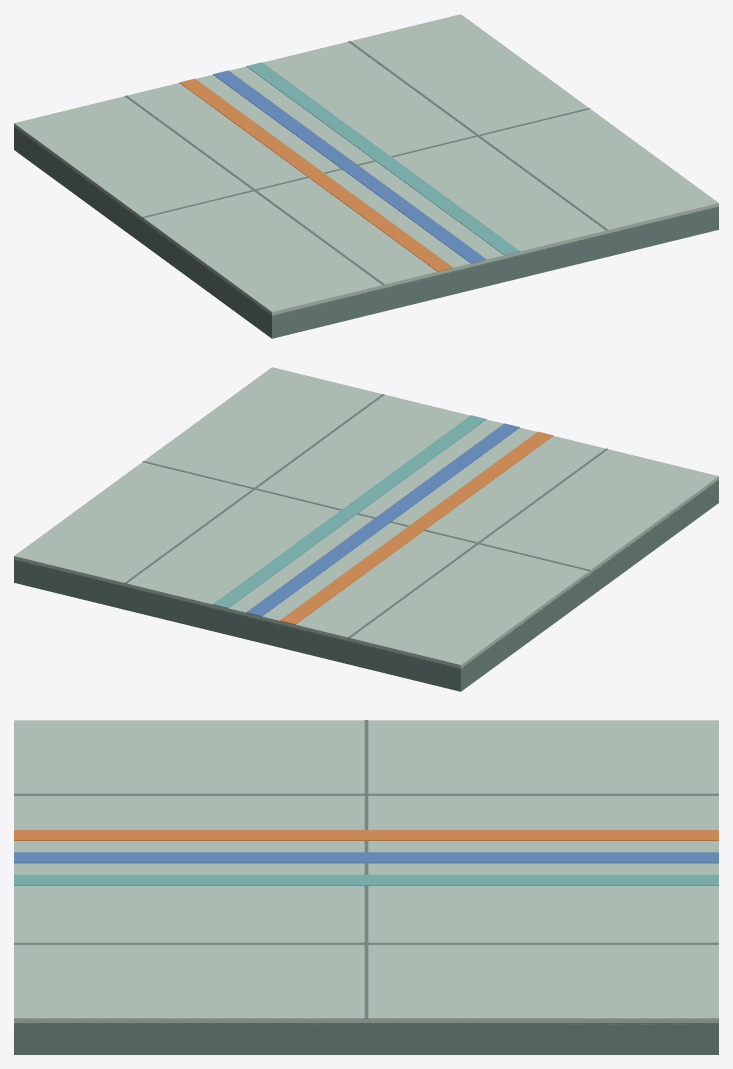
File: floor_hs_lane.glb
3 renders of one model, top to bottom at view 1: azimuth 30°, elevation 25°; view 2: azimuth 150°, elevation 25°; view 3: azimuth 270°, elevation 25°, orthographic. The views are drawn at different scales.
Visible parts, largest first — view 1: floor_hs_lane; view 2: floor_hs_lane; view 3: floor_hs_lane.
Boxes of the visible parts, box(x1,y1,x2,y2) form: floor_hs_lane: box(14, 14, 718, 338); floor_hs_lane: box(14, 367, 718, 691); floor_hs_lane: box(14, 720, 718, 1054).
Bounding box in the file's own units: 4 × 0.233 × 4.
